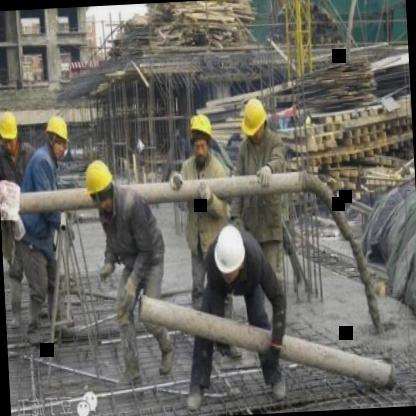helmet: (80, 154, 116, 217), (212, 223, 250, 280), (186, 107, 216, 165), (240, 95, 271, 146), (42, 111, 71, 159), (0, 106, 22, 156)
